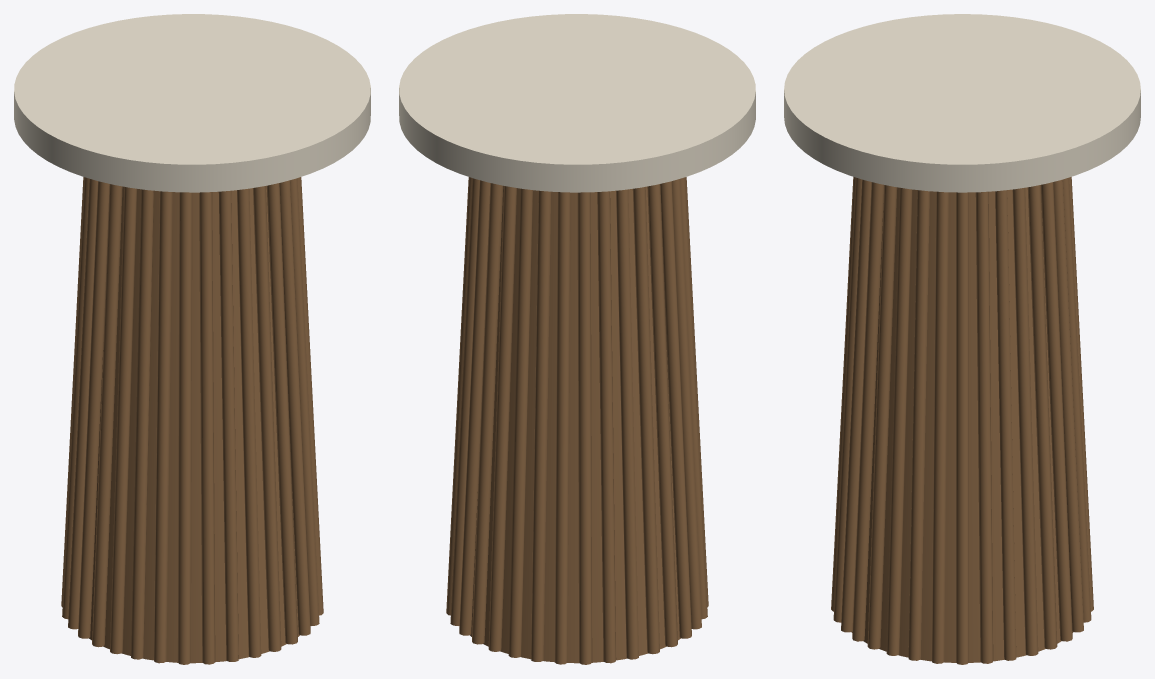
The model's file is wh-cocktail-table.glb.
The picture shows the model from 3 angles, left to right: view 1: azimuth 30°, elevation 25°; view 2: azimuth 150°, elevation 25°; view 3: azimuth 270°, elevation 25°; orthographic projection.
Parts seen in each view (by area): view 1: Core tapered base.001, Round or oval tabletop.001; view 2: Core tapered base.001, Round or oval tabletop.001; view 3: Core tapered base.001, Round or oval tabletop.001.
Part boxes in pixels (x1,y1,x2,y2): Core tapered base.001: (61, 177, 323, 664); Round or oval tabletop.001: (14, 14, 370, 192); Core tapered base.001: (446, 177, 708, 664); Round or oval tabletop.001: (399, 14, 755, 192); Core tapered base.001: (831, 177, 1093, 664); Round or oval tabletop.001: (784, 14, 1140, 192).
Bounding box in the file's own units: 0.65 × 1.05 × 0.65.
